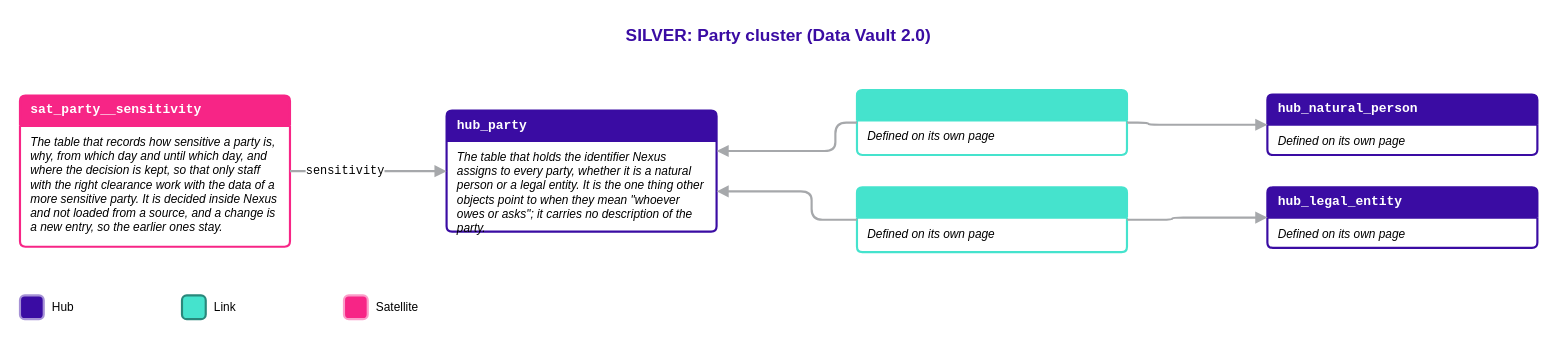
Image size: 1556x338. Some labels were removed from this diagram. The box of each missing label's shape, as (x1, y1, x2, y2) in pixels:
lnk_legal_entity__party: (855, 186, 1128, 253)
lnk_natural_person__party: (855, 89, 1128, 156)
